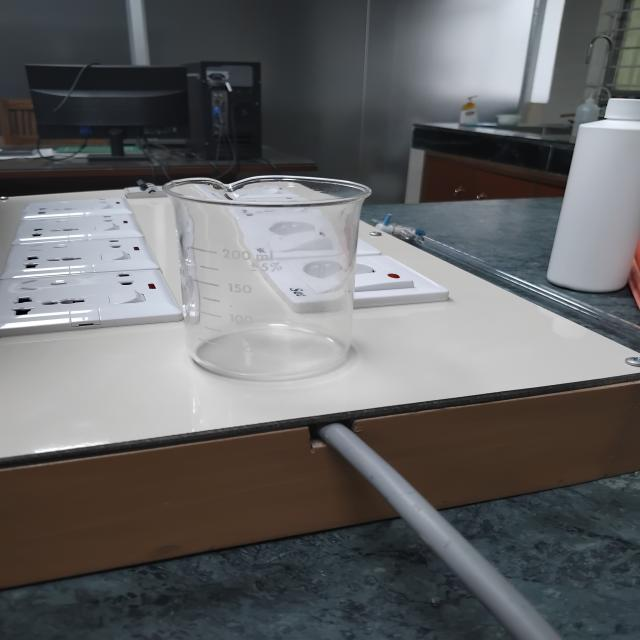Beaker: (124, 138, 408, 422)
